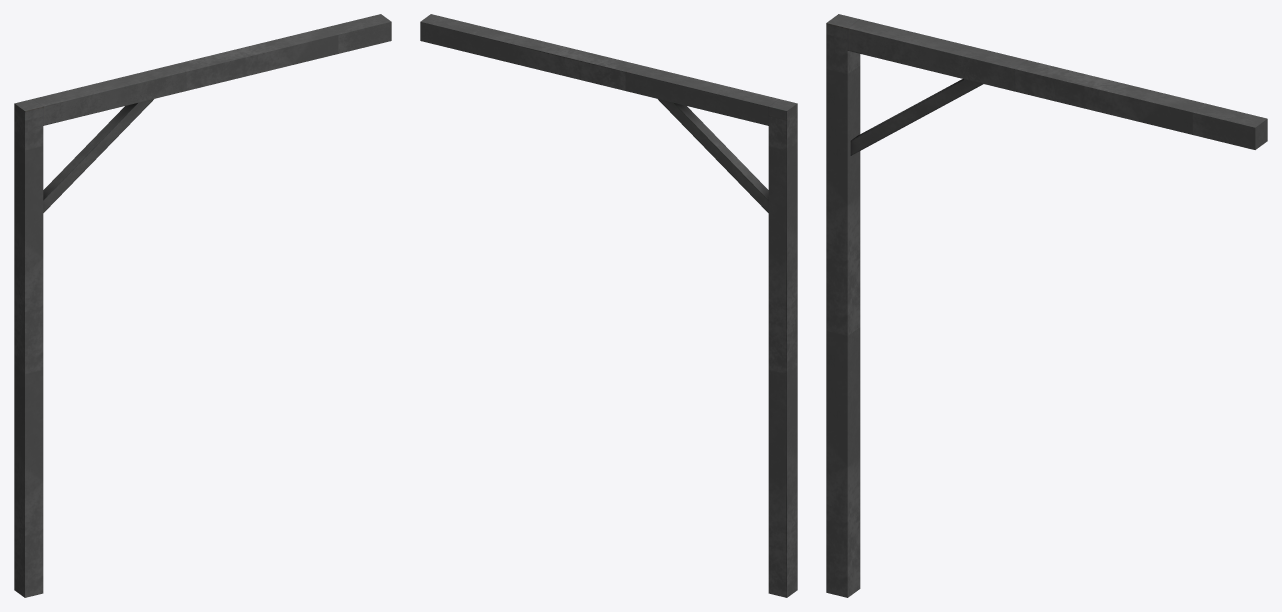
Rendered from pole_lshape_w100cm_150cm.obj.
3 views of the same model, side by side, from view 1: azimuth 30°, elevation 25°; view 2: azimuth 150°, elevation 25°; view 3: azimuth 330°, elevation 25° (orthographic). The views are drawn at different scales.
Parts seen in each view (by area): view 1: pole_l150w100, pole_lshape_l150w100, pole_l150w100_2, pole_end_l150w100; view 2: pole_l150w100, pole_lshape_l150w100, pole_l150w100_2, pole_end_l150w100; view 3: pole_l150w100, pole_lshape_l150w100, pole_l150w100_2, pole_end_l150w100.
Boxes of the visible parts, x1,y1,x2,y2 form: pole_l150w100: [14, 113, 43, 597]; pole_lshape_l150w100: [14, 64, 186, 212]; pole_l150w100_2: [176, 27, 338, 90]; pole_end_l150w100: [328, 14, 391, 53]; pole_l150w100: [768, 113, 797, 597]; pole_lshape_l150w100: [625, 64, 797, 212]; pole_l150w100_2: [473, 27, 635, 90]; pole_end_l150w100: [420, 14, 483, 53]; pole_l150w100: [826, 34, 860, 597]; pole_lshape_l150w100: [826, 14, 1026, 155]; pole_l150w100_2: [1015, 60, 1204, 134]; pole_end_l150w100: [1192, 103, 1267, 149].
Size of the model in its own units: 1.21 by 1.53 by 0.0604.
1 material, 1 textured.
